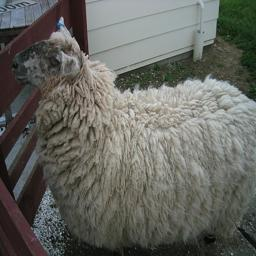sheep: (128, 70, 256, 256)
